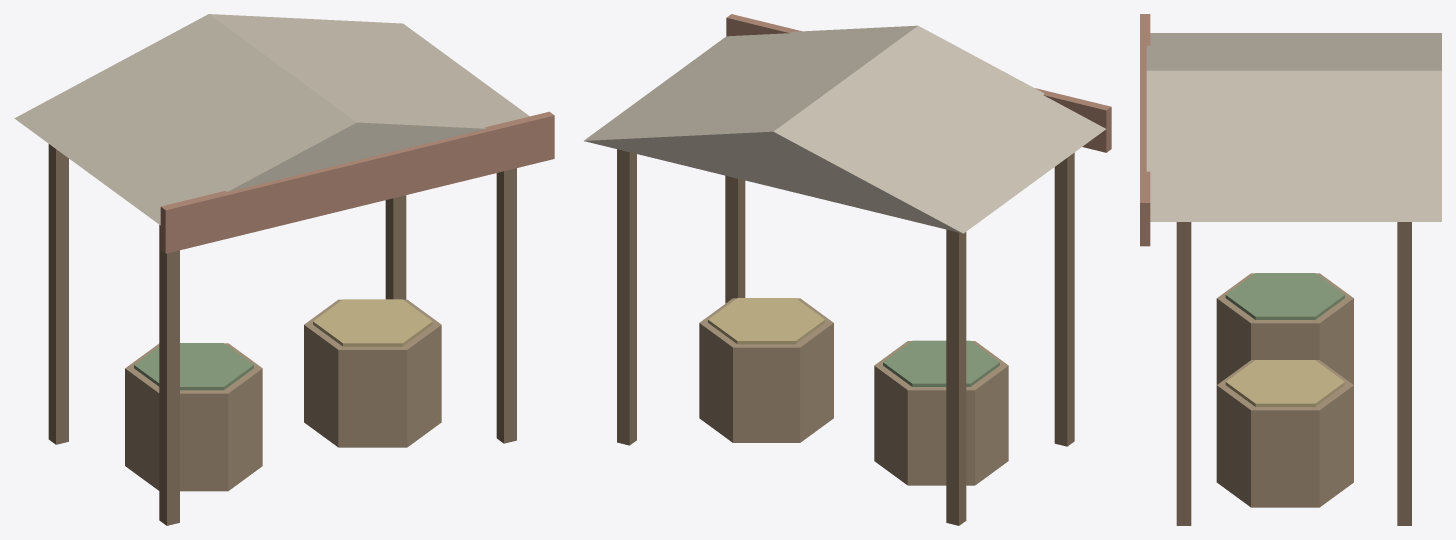
Rendered from market-awning.glb.
3 views of the same model, side by side, from view 1: azimuth 30°, elevation 25°; view 2: azimuth 150°, elevation 25°; view 3: azimuth 270°, elevation 25° (orthographic). The views are drawn at different scales.
Parts seen in each view (by area): view 1: market_awning; view 2: market_awning; view 3: market_awning.
Boxes of the visible parts, x1,y1,x2,y2 form: market_awning: [14, 14, 554, 525]; market_awning: [584, 14, 1111, 525]; market_awning: [1140, 14, 1441, 525].
Bounding box in the file's own units: 0.85 × 0.7763 × 0.5737.
